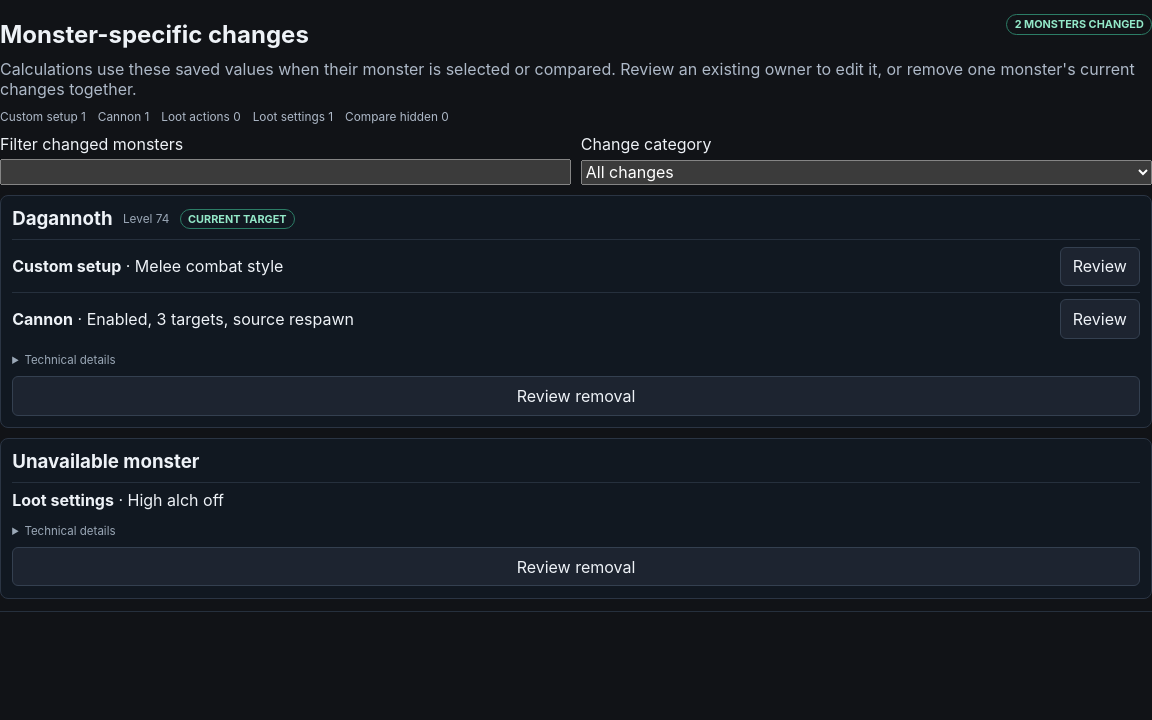
Test: Monster-specific changes panel › shows an inline, explicit removal review without mutating on open
The width and height of the screenshot is (1152, 720).
Click the button with aria-label "Review removal for Dagannoth" at [576, 396], box [12,376,1140,416]
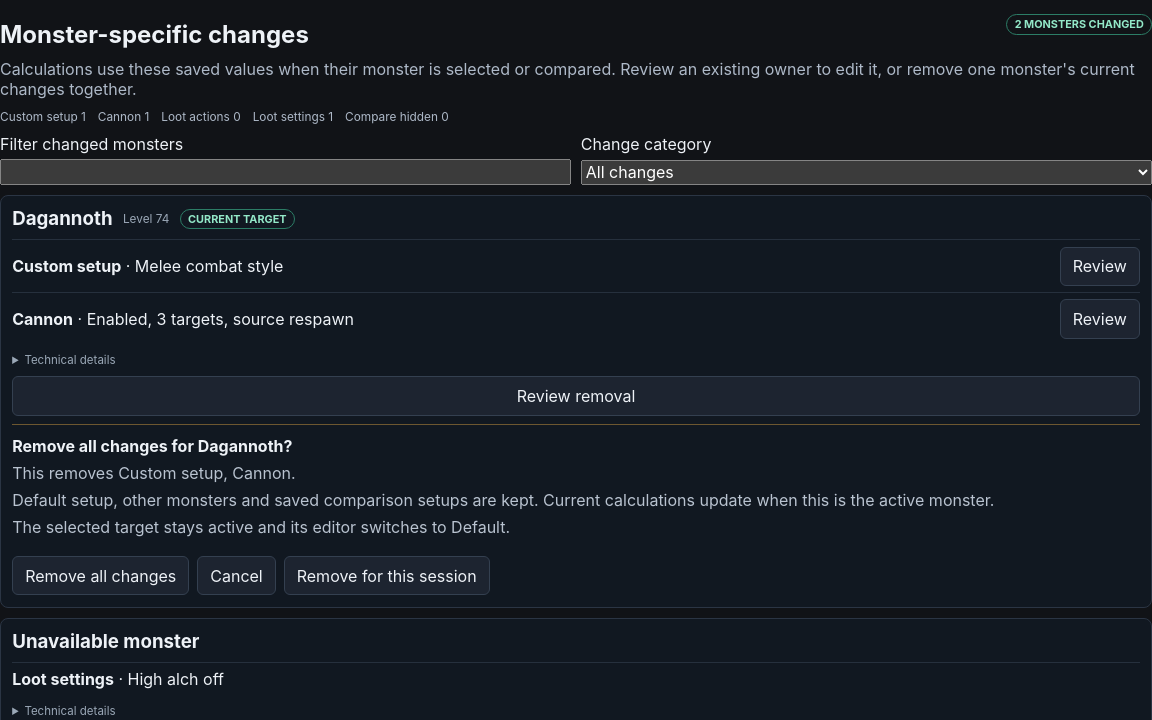
Result: the text "Remove all changes for Dagannoth?" is shown at [12,436,292,456]
Result: the text "switches to Default" is shown at [12,517,510,537]
